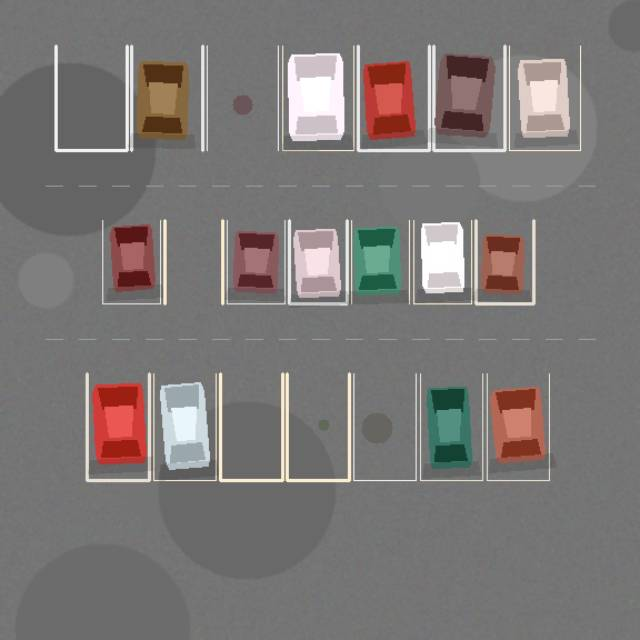space-empty: (56, 46, 127, 150), (207, 46, 278, 150), (353, 373, 416, 480), (220, 373, 282, 480), (287, 373, 349, 480), (164, 220, 222, 303)
space-occupied: (131, 46, 202, 150), (282, 46, 353, 150), (358, 46, 429, 150), (433, 46, 504, 150), (509, 46, 580, 150), (153, 373, 216, 480), (87, 373, 149, 480), (420, 373, 482, 480), (487, 373, 549, 480), (102, 220, 160, 303), (289, 220, 347, 303), (351, 220, 409, 303), (413, 220, 471, 303), (227, 220, 284, 303), (476, 220, 533, 303)
